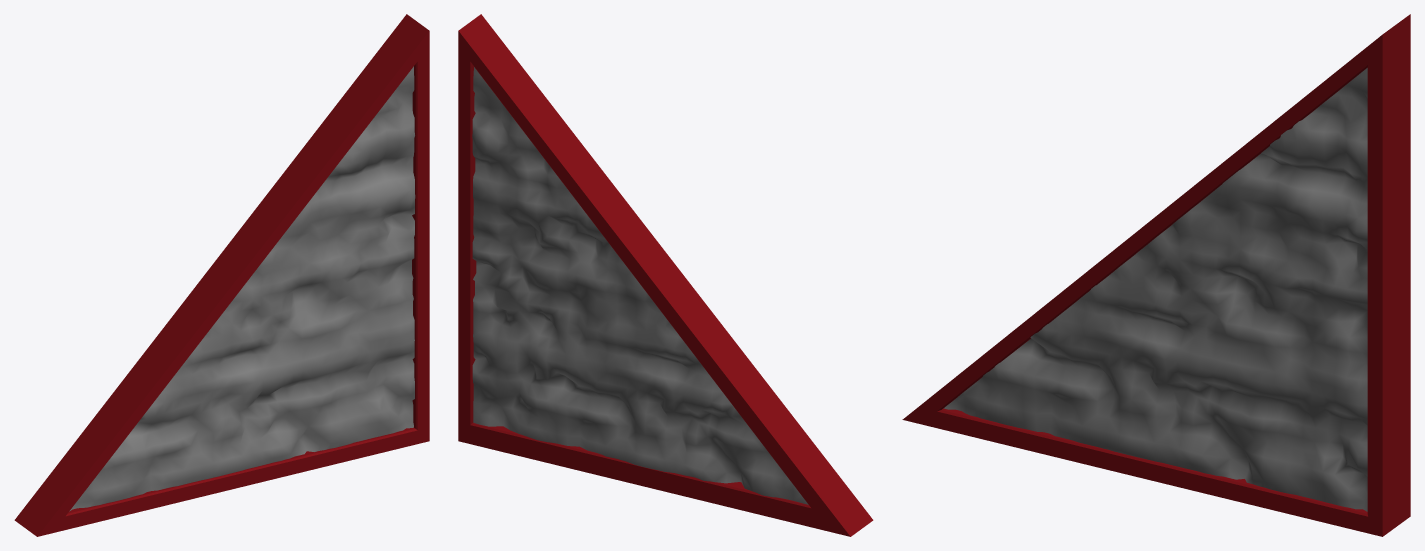
File: SM_MH_01_Stone_Wall_Roof_L_02.fbx
The picture shows the model from 3 angles, left to right: view 1: azimuth 30°, elevation 25°; view 2: azimuth 150°, elevation 25°; view 3: azimuth 330°, elevation 25°; orthographic projection. The views are drawn at different scales.
Visible parts, largest first — view 1: SM_MH_01_Stone_Wall_Roof_L_02_LOD0; view 2: SM_MH_01_Stone_Wall_Roof_L_02_LOD0; view 3: SM_MH_01_Stone_Wall_Roof_L_02_LOD0.
Boxes of the visible parts, x1,y1,x2,y2 form: SM_MH_01_Stone_Wall_Roof_L_02_LOD0: [14, 14, 429, 536]; SM_MH_01_Stone_Wall_Roof_L_02_LOD0: [458, 14, 873, 536]; SM_MH_01_Stone_Wall_Roof_L_02_LOD0: [902, 14, 1410, 536].
Size of what is drawn, in the model's own units: 300 by 300 by 35.61.
